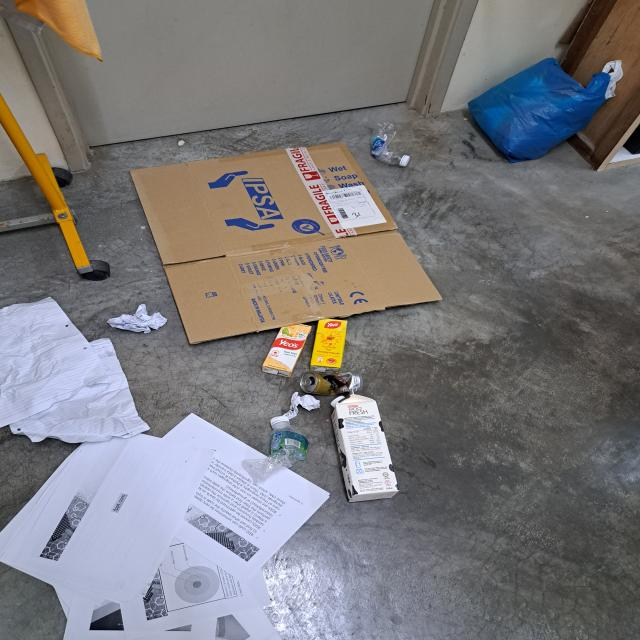can: (300, 372, 364, 394)
cardboard: (128, 142, 444, 344)
drink carton: (331, 388, 399, 502), (261, 323, 312, 378), (309, 319, 348, 374)
paper: (0, 412, 331, 640), (0, 297, 147, 442), (107, 304, 168, 334), (283, 392, 321, 419)
plastic bag: (468, 58, 611, 163)
plastic bottle: (242, 423, 309, 482), (370, 122, 403, 164)
plastic bottle cap: (270, 416, 290, 427), (330, 396, 345, 408), (400, 155, 410, 166)
pop tab: (302, 379, 311, 386)
